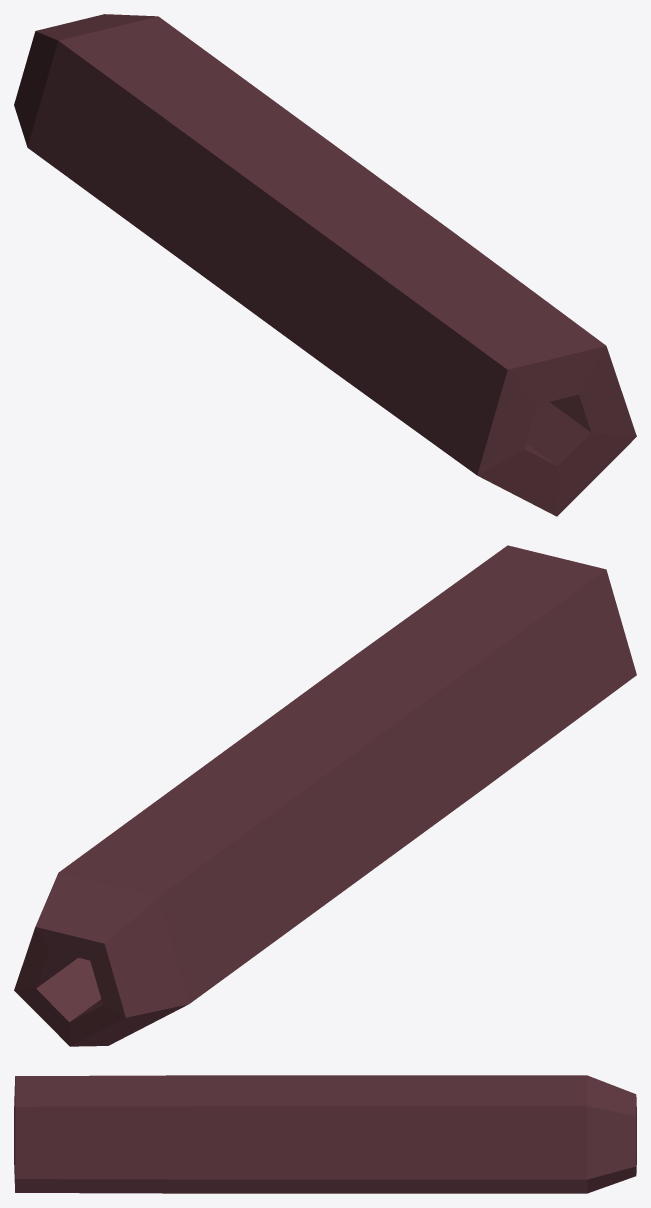
Rendered from SM_Silencer_Gun.fbx.
3 views of the same model, one above another, from view 1: azimuth 30°, elevation 25°; view 2: azimuth 150°, elevation 25°; view 3: azimuth 270°, elevation 25° (orthographic). The views are drawn at different scales.
Parts seen in each view (by area): view 1: SM_Silencer_Gun; view 2: SM_Silencer_Gun; view 3: SM_Silencer_Gun.
Part boxes in pixels (bbox=[...]): SM_Silencer_Gun: bbox=[14, 14, 636, 516]; SM_Silencer_Gun: bbox=[14, 545, 636, 1046]; SM_Silencer_Gun: bbox=[14, 1075, 636, 1193].
Bounding box in the file's own units: 0.032 × 0.0305 × 0.1673.
